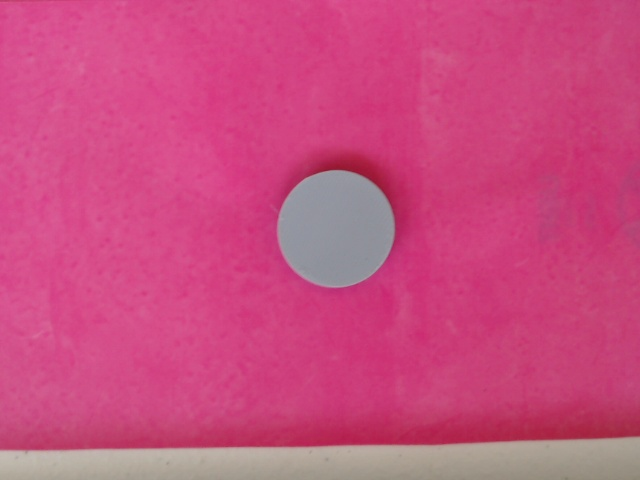NonDefective: (275, 169, 404, 291)
